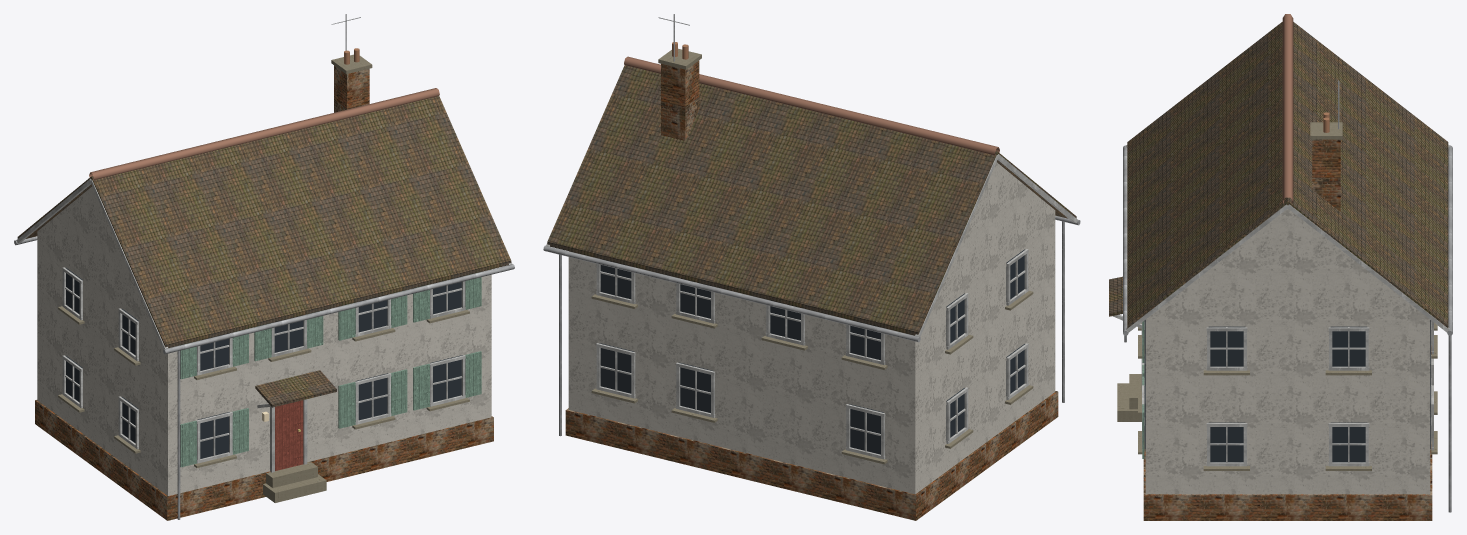
File: house.glb
3 views of the same model, side by side, from view 1: azimuth 30°, elevation 25°; view 2: azimuth 150°, elevation 25°; view 3: azimuth 270°, elevation 25° (orthographic). The views are drawn at different scales.
Visible parts, largest first — view 1: house; view 2: house; view 3: house.
Boxes of the visible parts, box(x1,y1,x2,y2) form: house: box(14, 14, 514, 520); house: box(543, 14, 1080, 520); house: box(1109, 14, 1452, 520).
Size of the model in its own units: 10.8 by 11.1 by 8.46.
13 materials, 8 textured.
